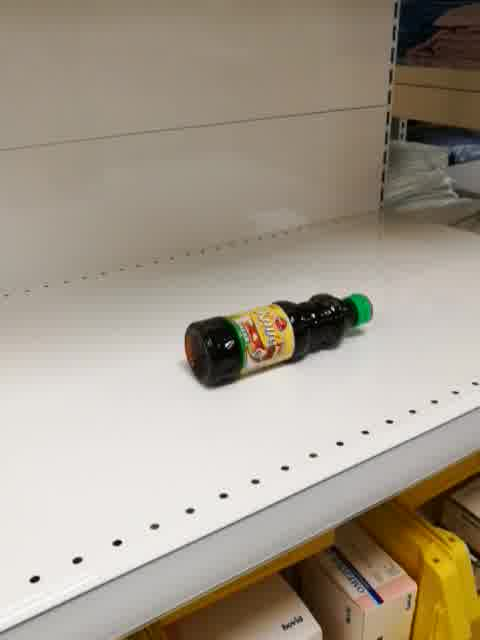cookingoil: (179, 290, 377, 391)
